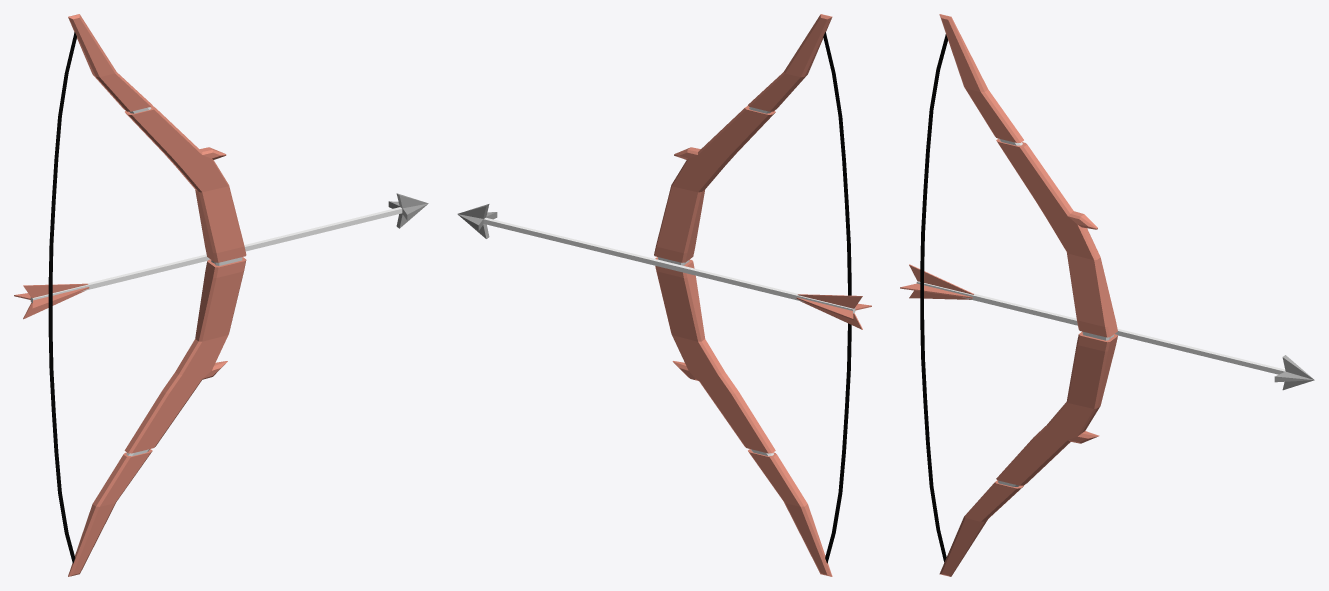
Rendered from bow.fbx.
3 renders of one model, left to right at view 1: azimuth 30°, elevation 25°; view 2: azimuth 150°, elevation 25°; view 3: azimuth 330°, elevation 25°, orthographic.
Visible parts, largest first — view 1: bow, Plane.004, Plane.002; view 2: bow, Plane.004, Plane.002; view 3: bow, Plane.004, Plane.002.
Boxes of the visible parts, box(x1,y1,x2,y2) form: bow: box(68, 14, 246, 576); Plane.004: box(14, 193, 428, 319); Plane.002: box(48, 32, 76, 563); bow: box(654, 14, 832, 576); Plane.004: box(457, 204, 871, 329); Plane.002: box(823, 32, 851, 563); bow: box(939, 14, 1117, 576); Plane.004: box(900, 264, 1314, 390); Plane.002: box(920, 34, 947, 562).
Bounding box in the file's own units: 140 × 185 × 12.87.
